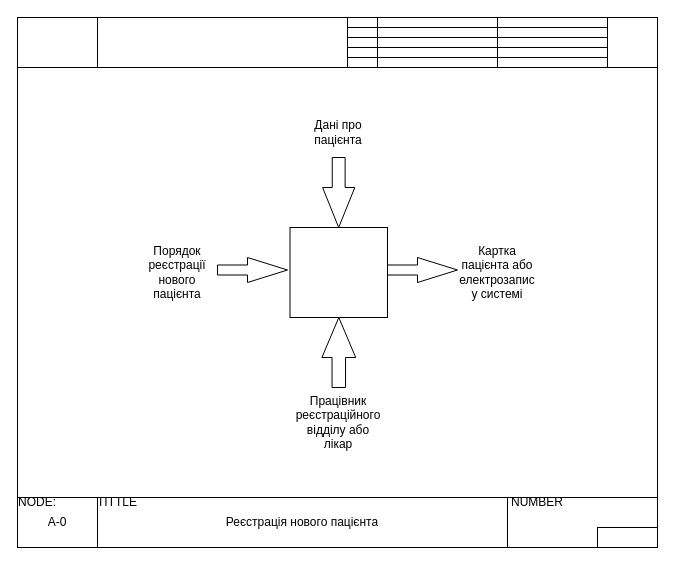
This 675x565 diagram has some shape labels left out. The centre of each missing label's shape, as x and y in pixels:
"USED AT" belongs at point (57, 42).
"Реєстрація нового пацієнта A0" belongs at point (338, 272).
